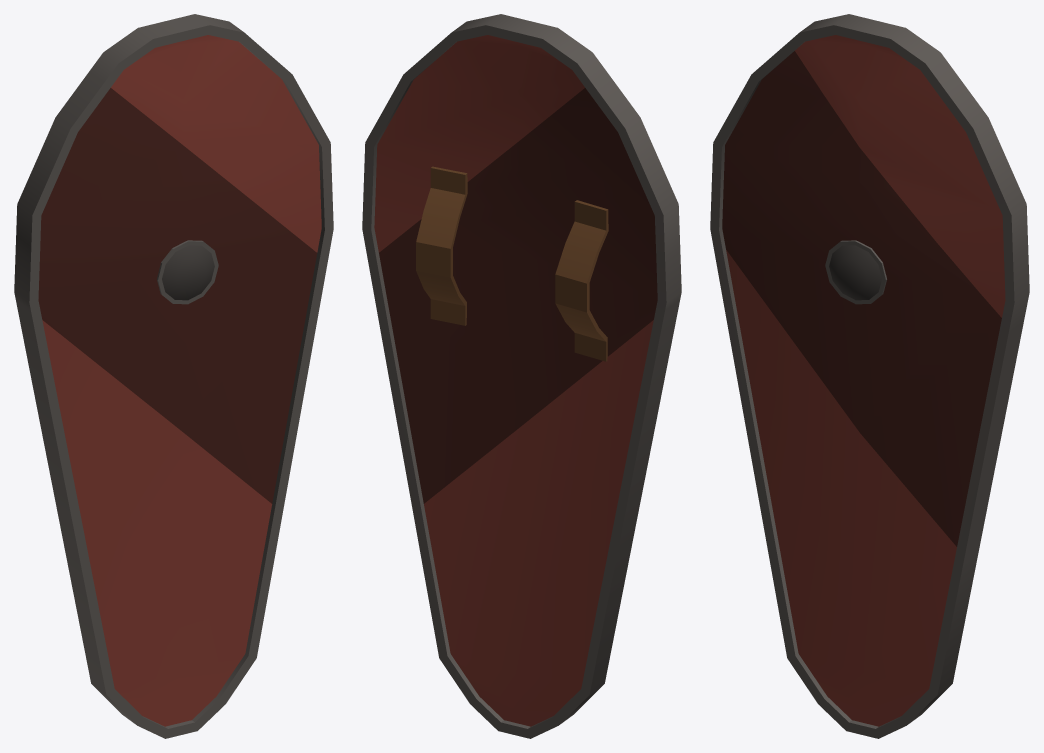
The model's file is Kite Shield_Red.fbx.
The picture shows the model from 3 angles, left to right: view 1: azimuth 30°, elevation 25°; view 2: azimuth 150°, elevation 25°; view 3: azimuth 330°, elevation 25°; orthographic projection.
Visible parts, largest first — view 1: Kite Shield_Red_Baked; view 2: Kite Shield_Red_Baked; view 3: Kite Shield_Red_Baked.
Boxes of the visible parts, x1,y1,x2,y2 form: Kite Shield_Red_Baked: (14, 14, 333, 738); Kite Shield_Red_Baked: (362, 14, 681, 738); Kite Shield_Red_Baked: (710, 14, 1029, 738).
Bounding box in the file's own units: 43.23 × 95.42 × 9.4.
Materials: 1 (1 with a texture image).
